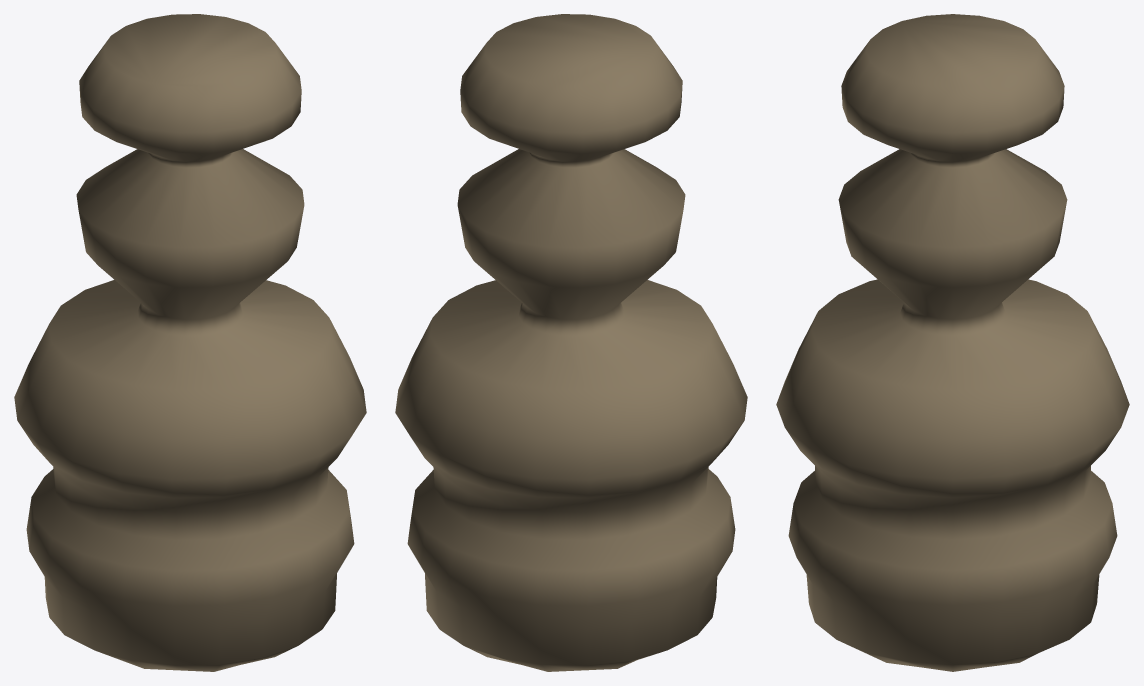
The model's file is museum_assets_7.fbx.
The picture shows the model from 3 angles, left to right: view 1: azimuth 30°, elevation 25°; view 2: azimuth 150°, elevation 25°; view 3: azimuth 270°, elevation 25°; orthographic projection.
Visible parts, largest first — view 1: amfora_8; view 2: amfora_8; view 3: amfora_8.
Boxes of the visible parts, bbox=[...] form: amfora_8: bbox=[14, 14, 366, 671]; amfora_8: bbox=[395, 14, 747, 671]; amfora_8: bbox=[776, 14, 1129, 671].
Size of the model in its own units: 0.8291 by 1.52 by 0.8288.
